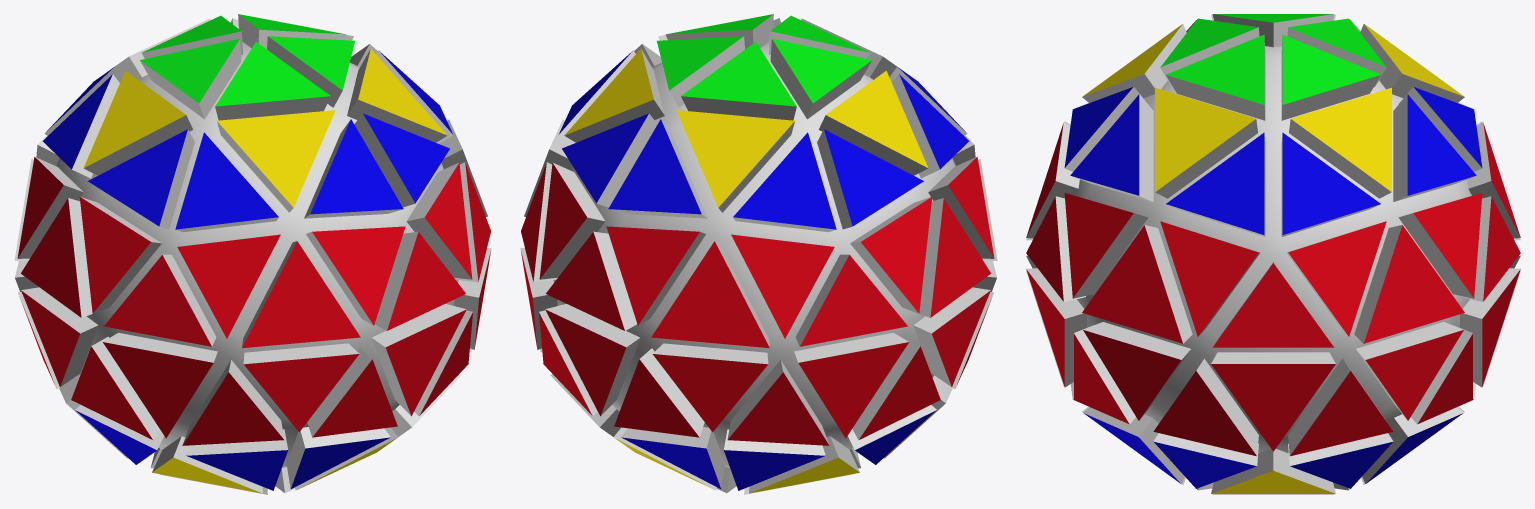
Rendered from BallEnemy.fbx.
The picture shows the model from 3 angles, left to right: view 1: azimuth 30°, elevation 25°; view 2: azimuth 150°, elevation 25°; view 3: azimuth 270°, elevation 25°; orthographic projection. The views are drawn at different scales.
Parts seen in each view (by area): view 1: Icosphere; view 2: Icosphere; view 3: Icosphere.
Boxes of the visible parts, x1=… form: Icosphere: x1=14, y1=14, x2=491, y2=494; Icosphere: x1=520, y1=14, x2=997, y2=494; Icosphere: x1=1026, y1=14, x2=1520, y2=494.
Size of the model in its own units: 189 by 196 by 195.
